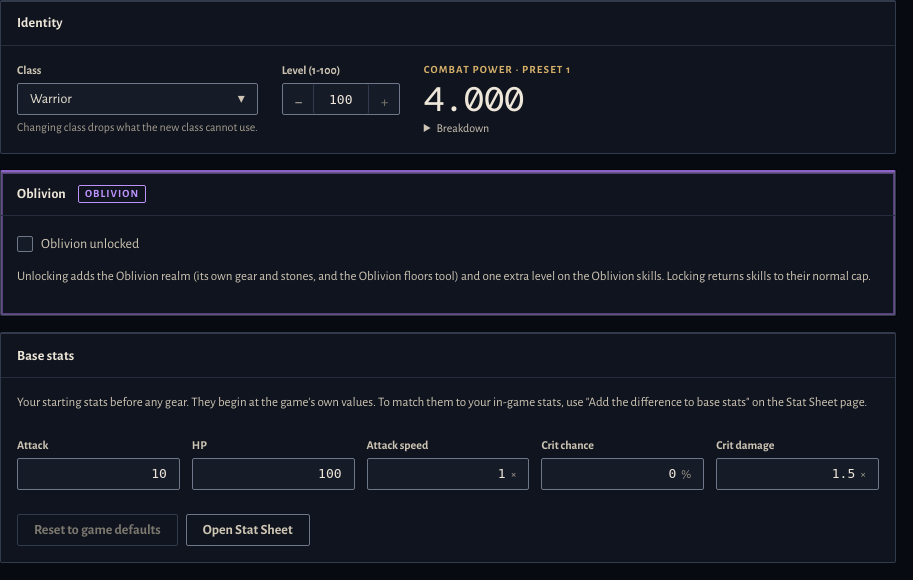
Test case: a level change that drops nothing applies at once and shows the Saved tick
Replace the text in the number field named "Level" with "58" at [341, 99], box [313,84,369,114]
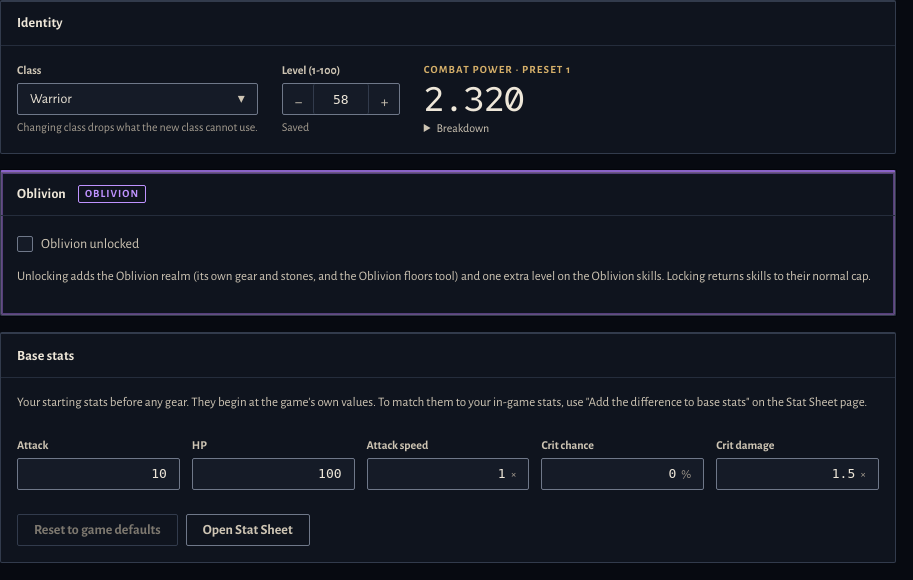
Expected: the message "Saved" is shown, [282,121,309,133]
